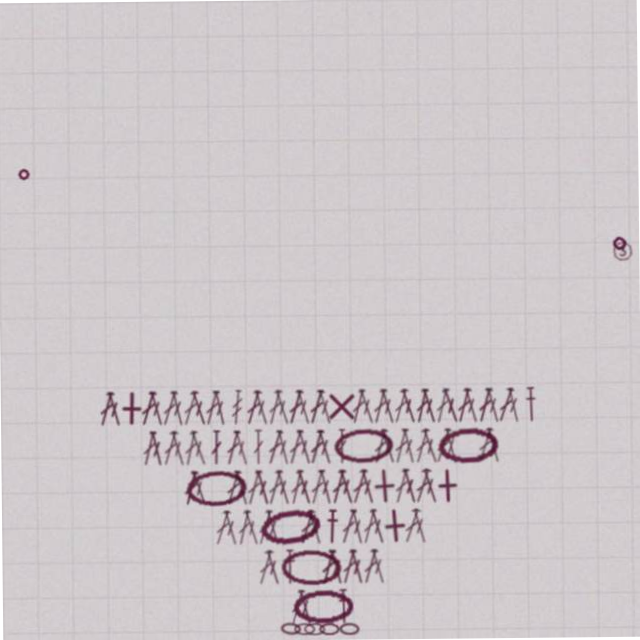chain: (256, 506, 320, 548), (184, 468, 245, 506), (436, 428, 497, 465), (278, 549, 340, 585), (332, 428, 392, 465), (290, 589, 350, 625), (277, 622, 298, 635), (291, 623, 312, 635), (301, 623, 322, 635), (316, 623, 336, 635), (336, 623, 356, 635)
double: (418, 428, 440, 466), (439, 388, 461, 426), (186, 429, 209, 465), (399, 509, 421, 545), (347, 469, 369, 505), (410, 469, 432, 505), (431, 429, 453, 465), (473, 429, 495, 465), (187, 389, 209, 425), (355, 389, 377, 425), (494, 389, 516, 425), (260, 549, 281, 585), (336, 549, 357, 585), (365, 549, 386, 585), (210, 509, 231, 545), (218, 509, 239, 545), (239, 509, 260, 545), (302, 509, 323, 545), (336, 509, 357, 545), (365, 509, 386, 545), (407, 509, 428, 545), (187, 469, 208, 505), (221, 469, 242, 505), (242, 469, 263, 505), (263, 469, 284, 505), (271, 469, 292, 505), (292, 469, 313, 505), (334, 469, 355, 505), (418, 469, 439, 505), (166, 429, 187, 465), (263, 429, 284, 465), (284, 429, 305, 465), (313, 429, 334, 465), (376, 429, 397, 465), (95, 389, 116, 425), (137, 389, 158, 425), (158, 389, 179, 425), (179, 389, 200, 425), (242, 389, 263, 425), (250, 389, 271, 425), (271, 389, 292, 425), (284, 389, 305, 425), (292, 389, 313, 425), (305, 389, 326, 425), (397, 389, 418, 425), (418, 389, 439, 425), (460, 389, 481, 425), (253, 549, 273, 585), (316, 549, 336, 585), (324, 549, 344, 585), (358, 549, 378, 585), (253, 509, 273, 545), (261, 509, 281, 545), (295, 509, 315, 545), (230, 469, 250, 505), (251, 469, 271, 505), (327, 469, 347, 505), (356, 469, 376, 505), (390, 469, 410, 505), (398, 469, 418, 505), (159, 429, 179, 465), (230, 429, 250, 465), (293, 429, 313, 465), (369, 429, 389, 465), (390, 429, 410, 465), (411, 429, 431, 465), (482, 429, 502, 465), (201, 389, 221, 425), (264, 389, 284, 425), (314, 389, 334, 425), (369, 389, 389, 425), (377, 389, 397, 425), (390, 389, 410, 425), (453, 389, 473, 425), (474, 389, 494, 425), (482, 389, 502, 425), (285, 589, 304, 625), (293, 589, 312, 625), (345, 549, 364, 585), (358, 509, 377, 545), (180, 469, 199, 505), (306, 469, 325, 505), (146, 429, 165, 465), (180, 429, 199, 465), (222, 429, 241, 465), (306, 429, 325, 465), (398, 429, 417, 465), (104, 389, 123, 425), (146, 389, 165, 425), (167, 389, 186, 425), (348, 389, 367, 425), (432, 389, 451, 425), (503, 389, 522, 425), (233, 509, 251, 545), (346, 509, 364, 545), (286, 469, 304, 505), (315, 469, 333, 505), (139, 429, 157, 465), (273, 429, 291, 465), (441, 429, 459, 465), (210, 389, 228, 425), (412, 389, 430, 425), (209, 429, 221, 464), (251, 429, 263, 464), (335, 429, 346, 464)
half_double: (323, 509, 337, 544), (523, 389, 537, 424), (334, 589, 347, 624), (281, 549, 294, 584)
noise: (611, 242, 635, 266), (613, 239, 628, 254), (18, 164, 32, 178)
single: (374, 508, 411, 545), (364, 468, 401, 505), (428, 469, 464, 505), (113, 389, 148, 424), (323, 389, 358, 424)
treble: (229, 389, 243, 424)
